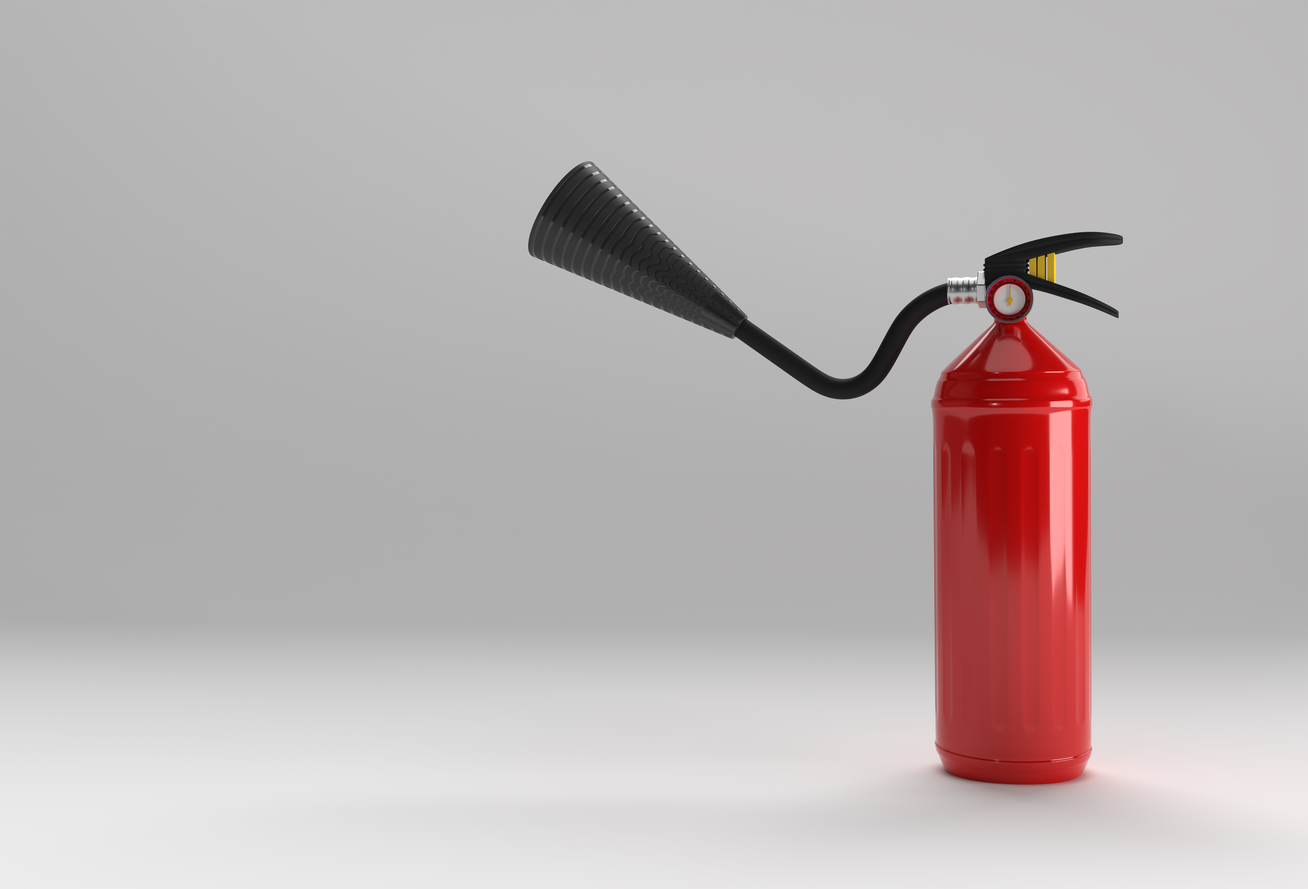fire_extinguisher: (527, 160, 1124, 786), (930, 231, 1123, 785)
